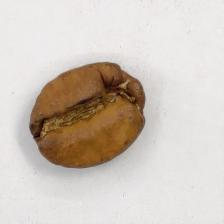NG: (32, 67, 142, 150)
